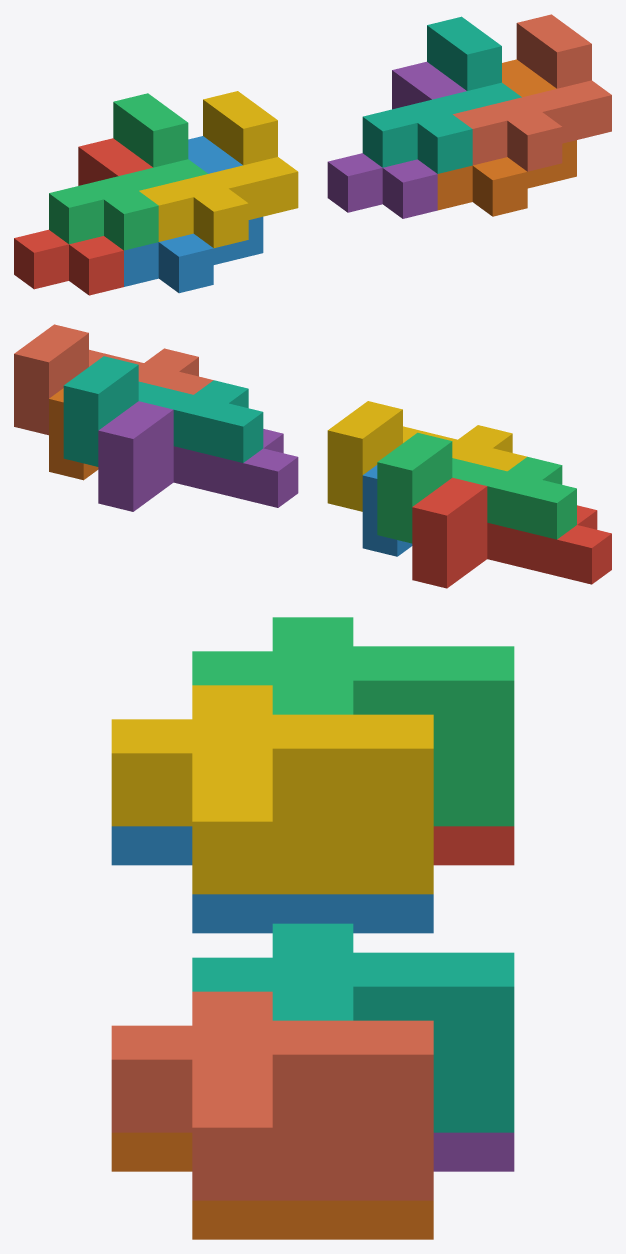
File: tiling.obj
3 renders of one model, top to bottom at view 1: azimuth 30°, elevation 25°; view 2: azimuth 150°, elevation 25°; view 3: azimuth 270°, elevation 25°, orthographic. The views are drawn at different scales.
Parts seen in each view (by area): view 1: copy_1_domain_8, copy_1_domain_4, copy_1_domain_3, copy_1_domain_7, copy_1_domain_5, copy_1_domain_1, copy_1_domain_2, copy_1_domain_6; view 2: copy_1_domain_5, copy_1_domain_1, copy_1_domain_7, copy_1_domain_3, copy_1_domain_4, copy_1_domain_8, copy_1_domain_2, copy_1_domain_6; view 3: copy_1_domain_4, copy_1_domain_8, copy_1_domain_3, copy_1_domain_7, copy_1_domain_6, copy_1_domain_2, copy_1_domain_1, copy_1_domain_5.
Part boxes in pixels (x1,y1,x2,y2): copy_1_domain_8: [453, 14, 611, 171]; copy_1_domain_4: [139, 91, 298, 248]; copy_1_domain_3: [49, 93, 207, 250]; copy_1_domain_7: [362, 16, 521, 173]; copy_1_domain_5: [327, 61, 466, 218]; copy_1_domain_1: [14, 138, 152, 295]; copy_1_domain_2: [124, 136, 263, 293]; copy_1_domain_6: [437, 59, 576, 216]; copy_1_domain_5: [98, 401, 298, 511]; copy_1_domain_1: [412, 477, 611, 588]; copy_1_domain_7: [63, 356, 263, 466]; copy_1_domain_3: [377, 432, 576, 543]; copy_1_domain_4: [327, 401, 526, 511]; copy_1_domain_8: [14, 324, 213, 435]; copy_1_domain_2: [362, 465, 412, 556]; copy_1_domain_6: [49, 388, 98, 480]; copy_1_domain_4: [111, 685, 433, 894]; copy_1_domain_8: [111, 991, 433, 1200]; copy_1_domain_3: [192, 617, 514, 826]; copy_1_domain_7: [192, 923, 514, 1132]; copy_1_domain_6: [111, 1132, 433, 1239]; copy_1_domain_2: [111, 826, 433, 933]; copy_1_domain_1: [433, 826, 514, 865]; copy_1_domain_5: [433, 1132, 514, 1171].
Size of the model in its own units: 16 by 3 by 5.
